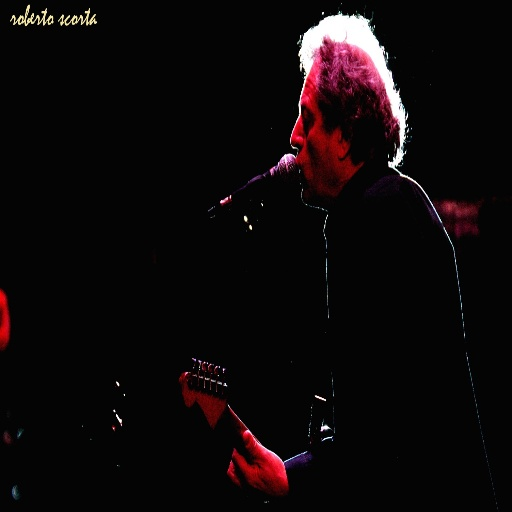hand: (221, 418, 292, 505)
